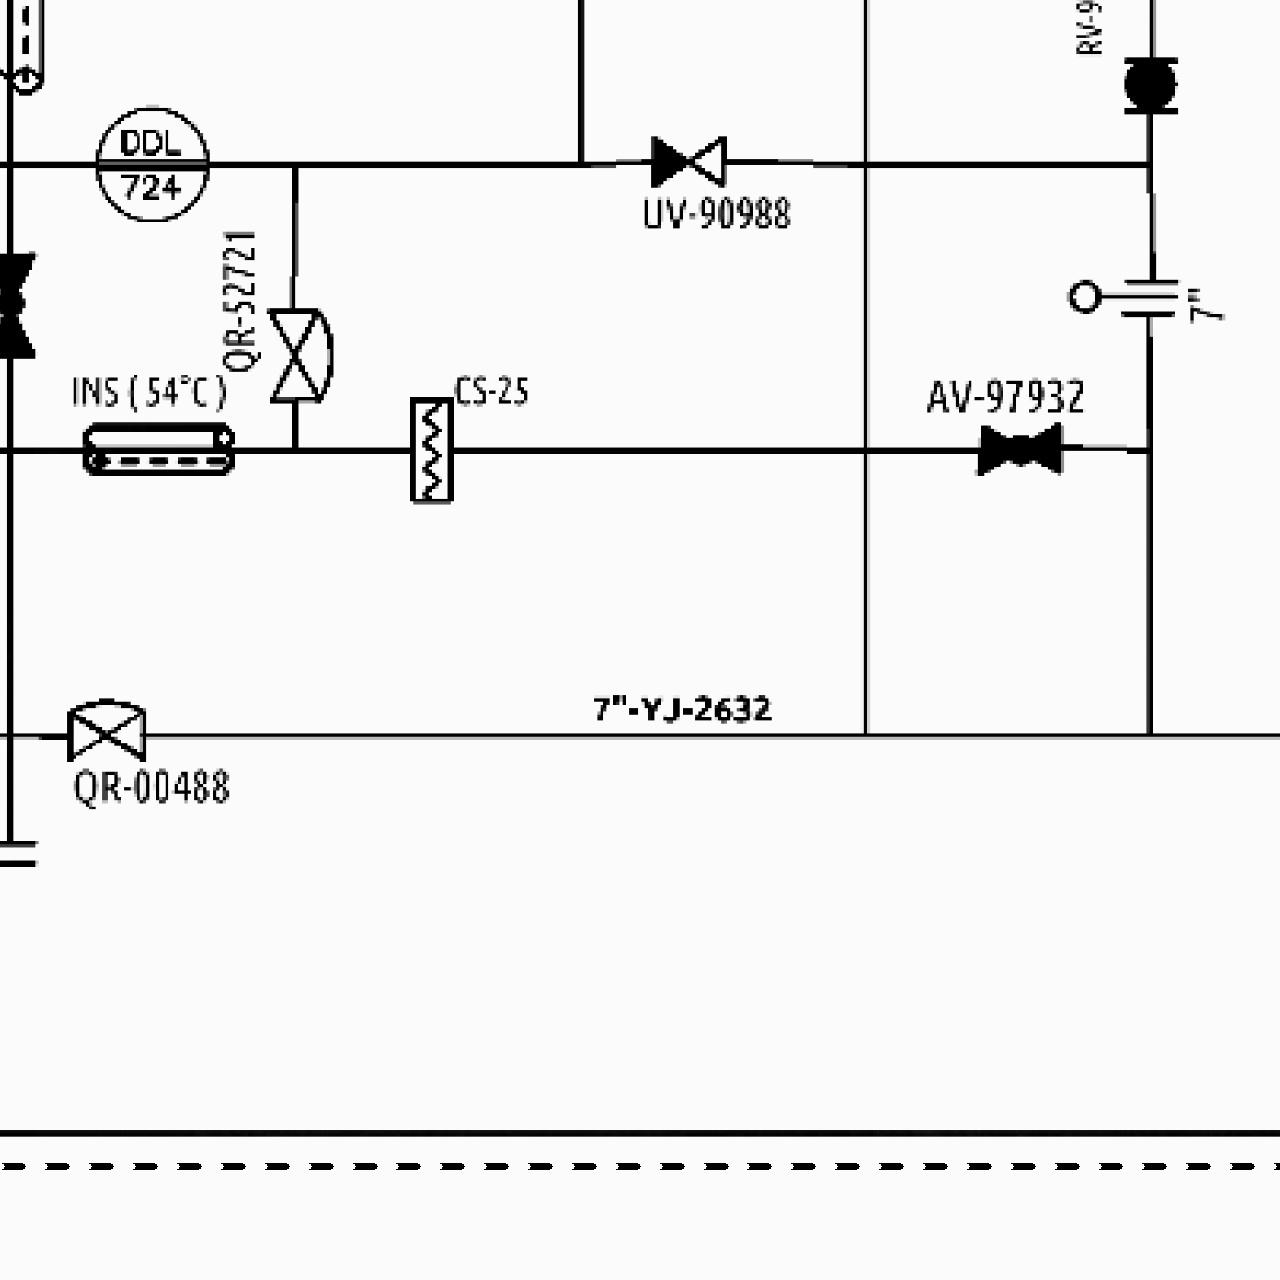Control-Panel: (88, 101, 215, 226)
Half closed valve: (646, 130, 729, 191)
